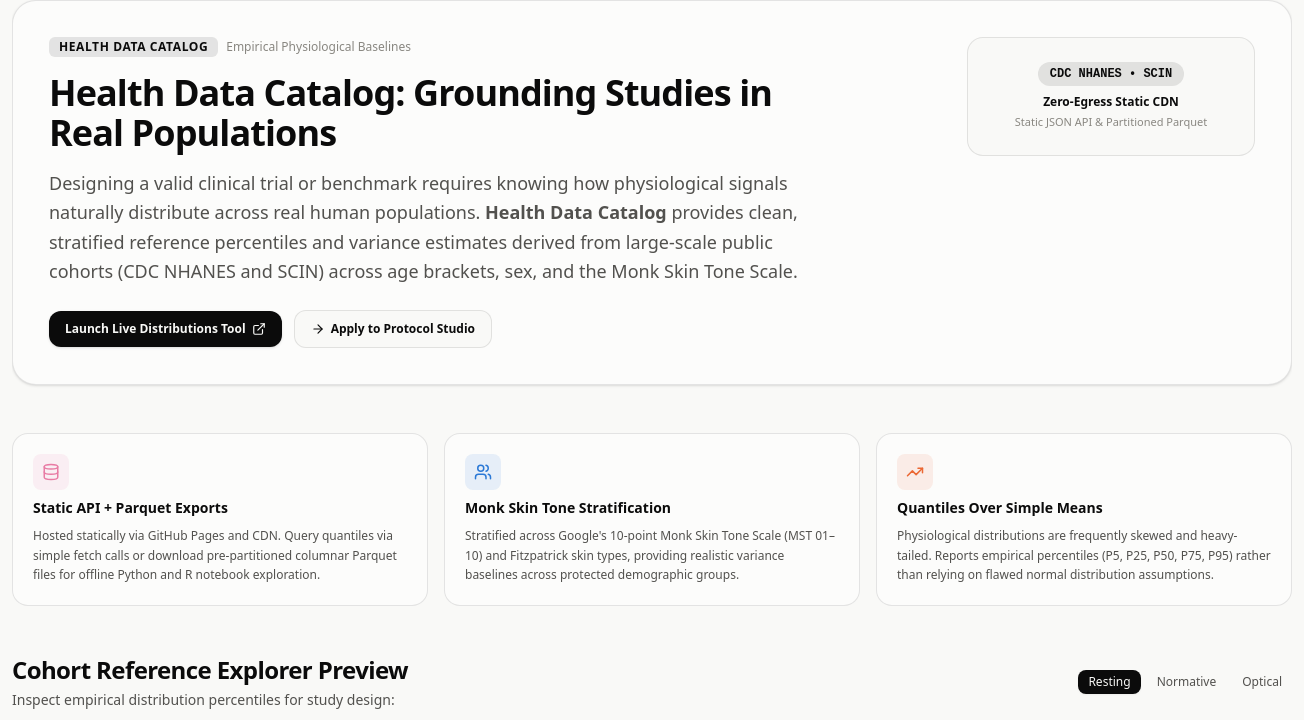
Test: HealthDataLandingPage › switches cohort reference explorer metric tabs
Click the button "Normative".
click(1186, 682)  # box [1147,670,1226,694]
(page scrolled)
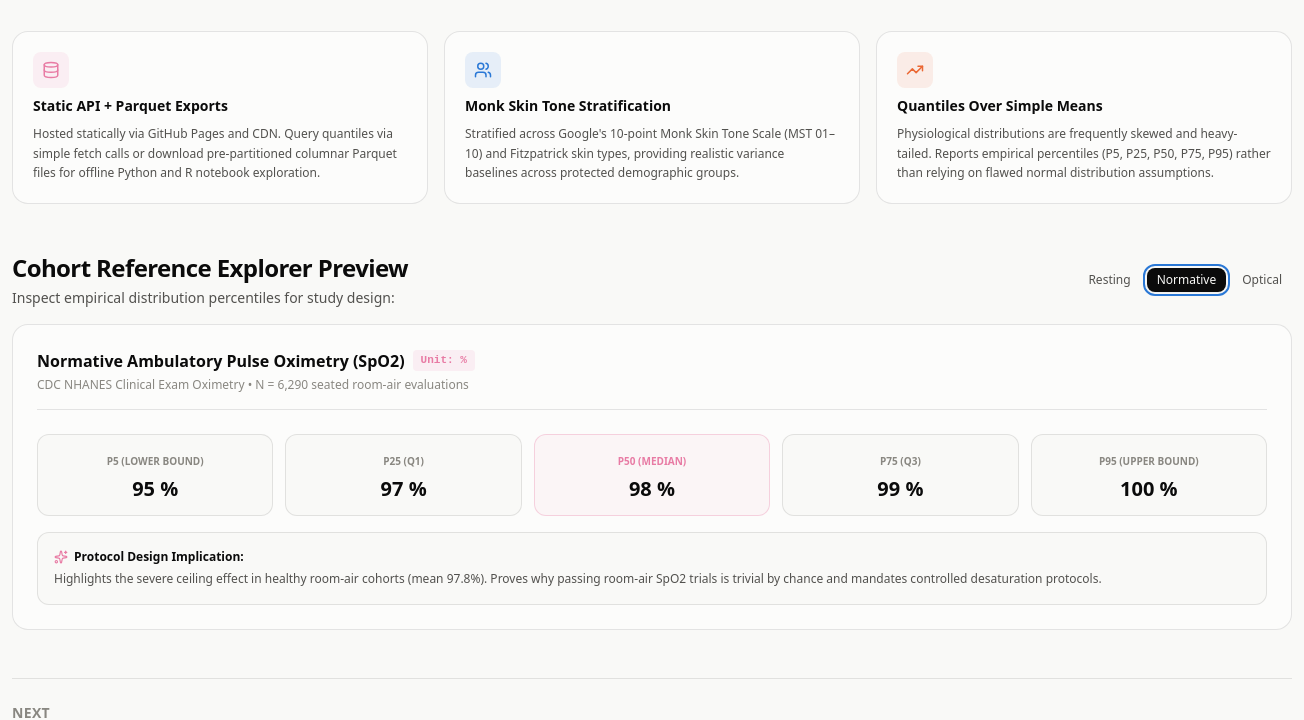
Result: the text "Normative Ambulatory Pulse Oximetry (SpO2)" is shown at [37,348,405,372]
